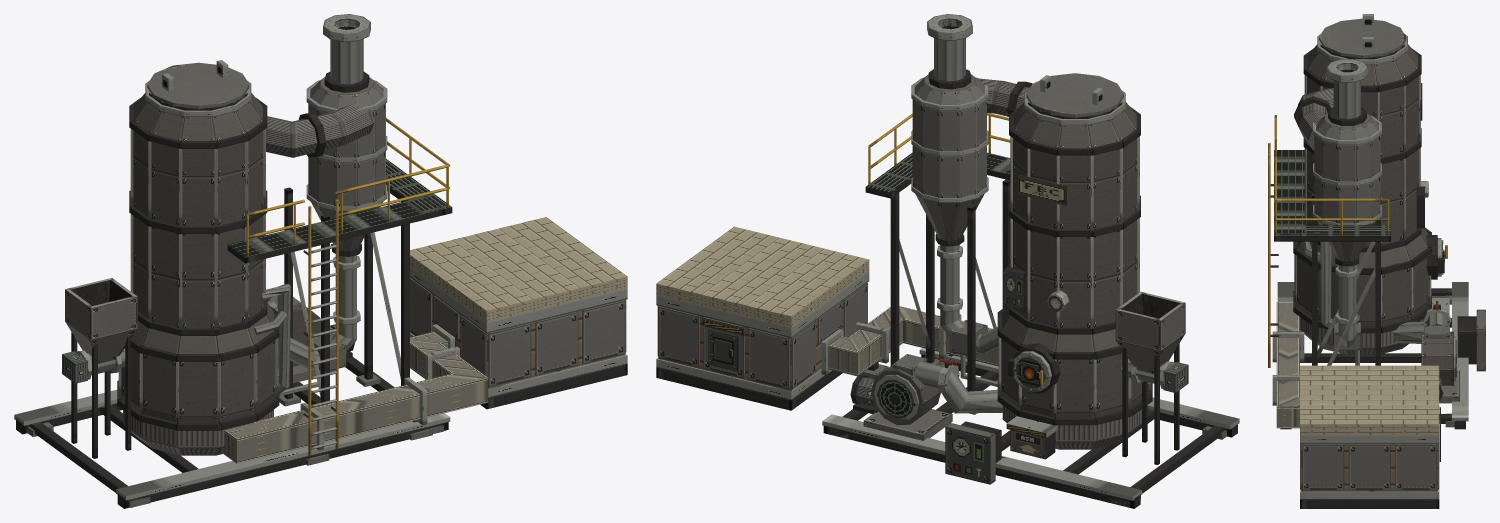
File: fluidized_bed_combustor.obj
3 views of the same model, side by side, from view 1: azimuth 30°, elevation 25°; view 2: azimuth 150°, elevation 25°; view 3: azimuth 270°, elevation 25° (orthographic). The views are drawn at different scales.
Visible parts, largest first — view 1: riser_shell, heat_contact, hot_gas_duct, skid, heat_bank_casing, cyclone, cyclone_frame, shell_bands, service_platform, fuel_hopper, crown, shell_ribs (+17 smaller); view 2: front_shell, heat_contact, skid, cyclone, heat_bank_casing, cyclone_frame, front_bands, fuel_hopper, heat_bank_bands, crown, hot_gas_duct, front_ribs (+24 smaller); view 3: front_shell, heat_contact, cyclone, heat_bank_casing, riser_shell, service_platform, skid, crown, hot_gas_duct, heat_bank_bands, cyclone_frame, flue_outlet (+24 smaller).
Boxes of the visible parts, x1,y1,x2,y2 form: riser_shell: (121, 93, 275, 422); heat_contact: (410, 217, 627, 310); hot_gas_duct: (220, 331, 488, 463); skid: (14, 357, 450, 508); heat_bank_casing: (410, 278, 626, 386); cyclone: (308, 77, 385, 250); cyclone_frame: (279, 187, 409, 406); shell_bands: (117, 98, 279, 430); service_platform: (227, 159, 452, 263); fuel_hopper: (65, 278, 137, 363); crown: (145, 62, 251, 116); shell_ribs: (139, 129, 278, 417); front_shell: (1001, 102, 1129, 449); heat_contact: (657, 226, 868, 316); skid: (822, 348, 1239, 508); cyclone: (912, 74, 986, 240); heat_bank_casing: (657, 283, 867, 389); cyclone_frame: (890, 179, 1010, 414); front_bands: (997, 114, 1131, 425); fuel_hopper: (1115, 291, 1185, 374); heat_bank_bands: (656, 271, 869, 400); crown: (1024, 73, 1125, 124); hot_gas_duct: (828, 306, 998, 376); front_ribs: (998, 136, 1131, 413); front_shell: (1374, 44, 1428, 353); heat_contact: (1300, 365, 1439, 424); cyclone: (1314, 113, 1380, 261); heat_bank_casing: (1300, 444, 1439, 490); riser_shell: (1296, 44, 1377, 326); service_platform: (1274, 150, 1390, 241); skid: (1277, 282, 1468, 429); crown: (1317, 18, 1407, 64); hot_gas_duct: (1276, 302, 1301, 428); heat_bank_bands: (1300, 435, 1439, 499); cyclone_frame: (1312, 193, 1380, 365); flue_outlet: (1326, 59, 1368, 125).
Size of the model in its own units: 10.95 by 7.97 by 4.69.
1 material, 1 textured.
